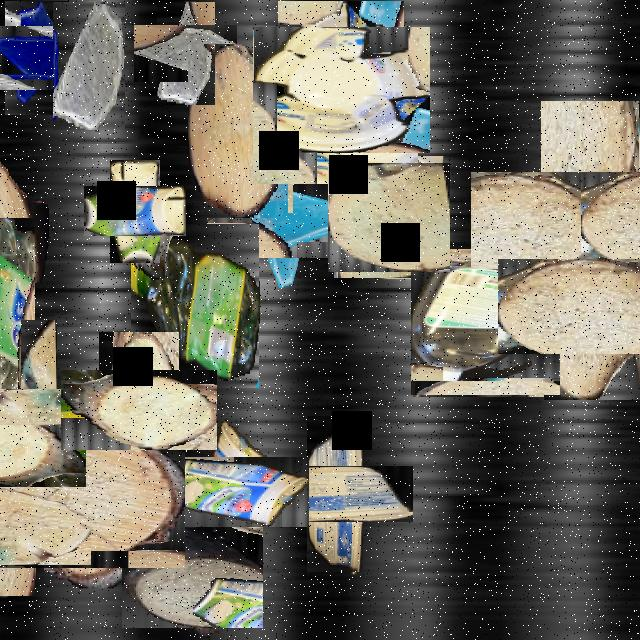glass: (270, 72, 400, 202), (224, 151, 350, 276), (53, 2, 125, 130), (0, 14, 81, 103), (146, 13, 226, 94)
plastic: (0, 303, 120, 510), (265, 15, 417, 166), (506, 136, 640, 304), (411, 248, 559, 396), (131, 224, 259, 388), (182, 438, 290, 546), (282, 441, 388, 547), (97, 173, 173, 250)
wood: (7, 410, 175, 578), (126, 501, 258, 633), (188, 45, 288, 218), (521, 234, 640, 377), (80, 351, 198, 470), (331, 159, 447, 275), (0, 354, 91, 459), (0, 146, 48, 281)
